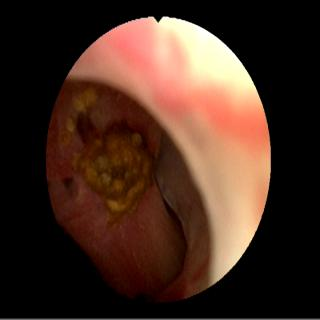stone: (80, 125, 154, 221), (73, 91, 97, 110), (59, 132, 70, 146), (66, 117, 74, 130)
tissue: (54, 23, 265, 285)
